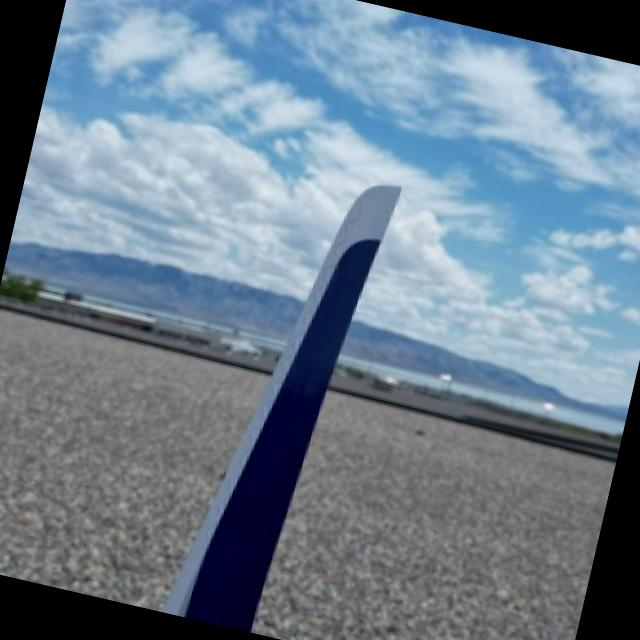healthy: (167, 183, 403, 630)
